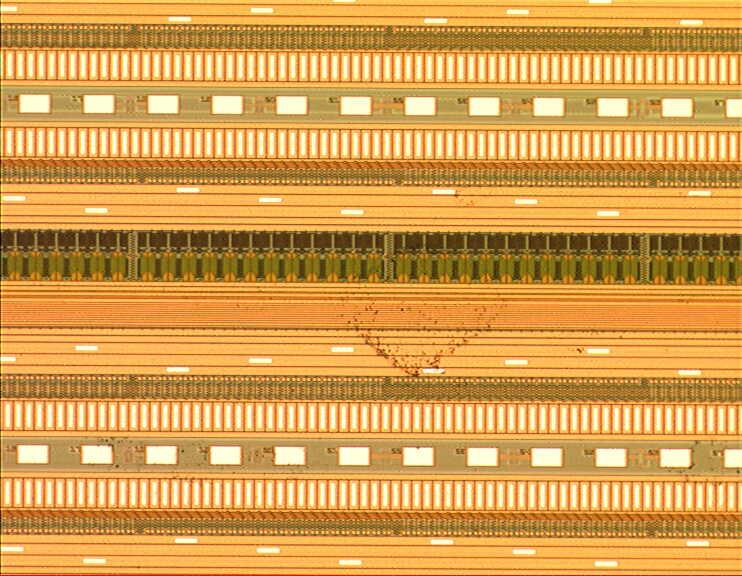PO CONTAMINATION: (195, 174, 596, 389)
